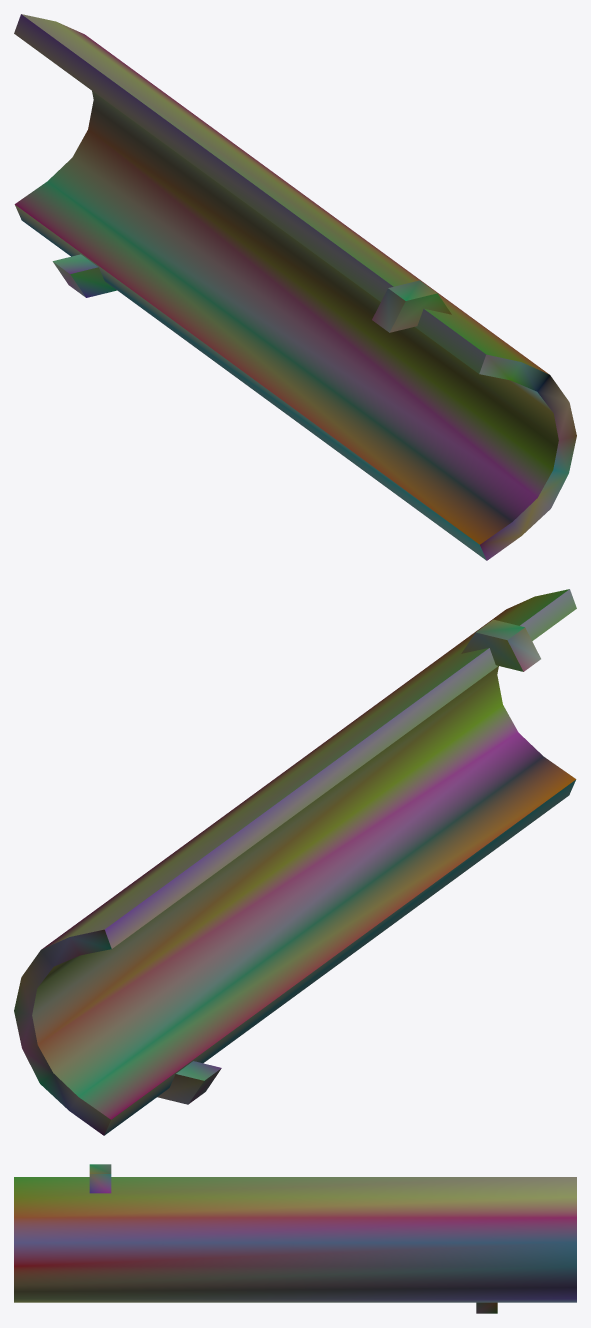
Rendered from ASE_Sabre_Projectile_LShell.gltf.
3 renders of one model, top to bottom at view 1: azimuth 30°, elevation 25°; view 2: azimuth 150°, elevation 25°; view 3: azimuth 270°, elevation 25°, orthographic. The views are drawn at different scales.
Visible parts, largest first — view 1: ASE_Sabre_Projectile_LShell; view 2: ASE_Sabre_Projectile_LShell; view 3: ASE_Sabre_Projectile_LShell.
Boxes of the visible parts, x1,y1,x2,y2 form: ASE_Sabre_Projectile_LShell: (14,14,576,560); ASE_Sabre_Projectile_LShell: (14,589,576,1135); ASE_Sabre_Projectile_LShell: (14,1164,576,1313).
Bounding box in the file's own units: 0.1026 × 0.1813 × 0.6623.
